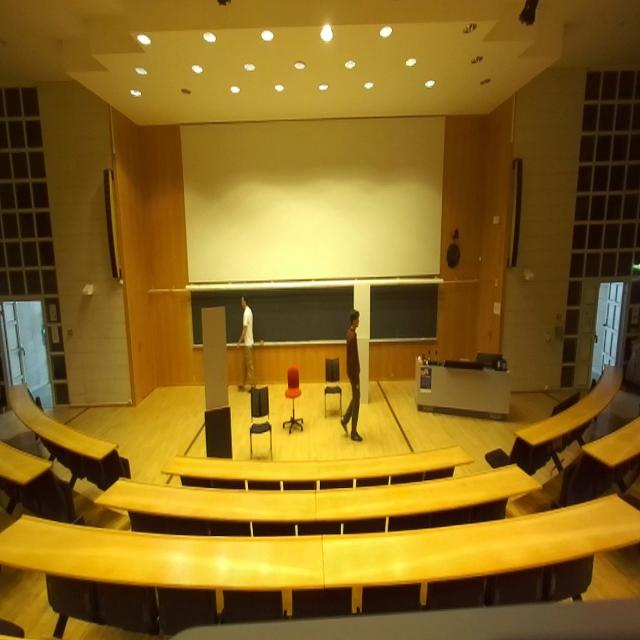person: (340, 308, 362, 442), (237, 295, 256, 393)
